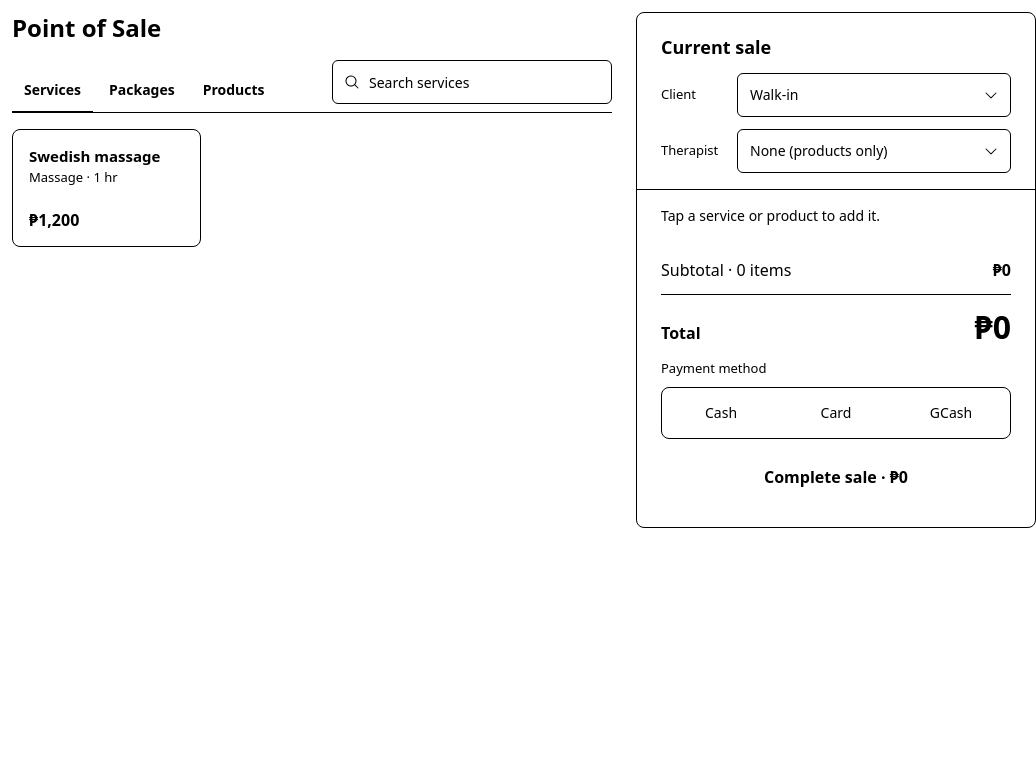
it: Point of Sale › needs a therapist when the cart has a service
Click the button "Swedish massage Massage · 1 hr ₱1,200": [107, 188] box x1=12 y1=129 x2=201 y2=247
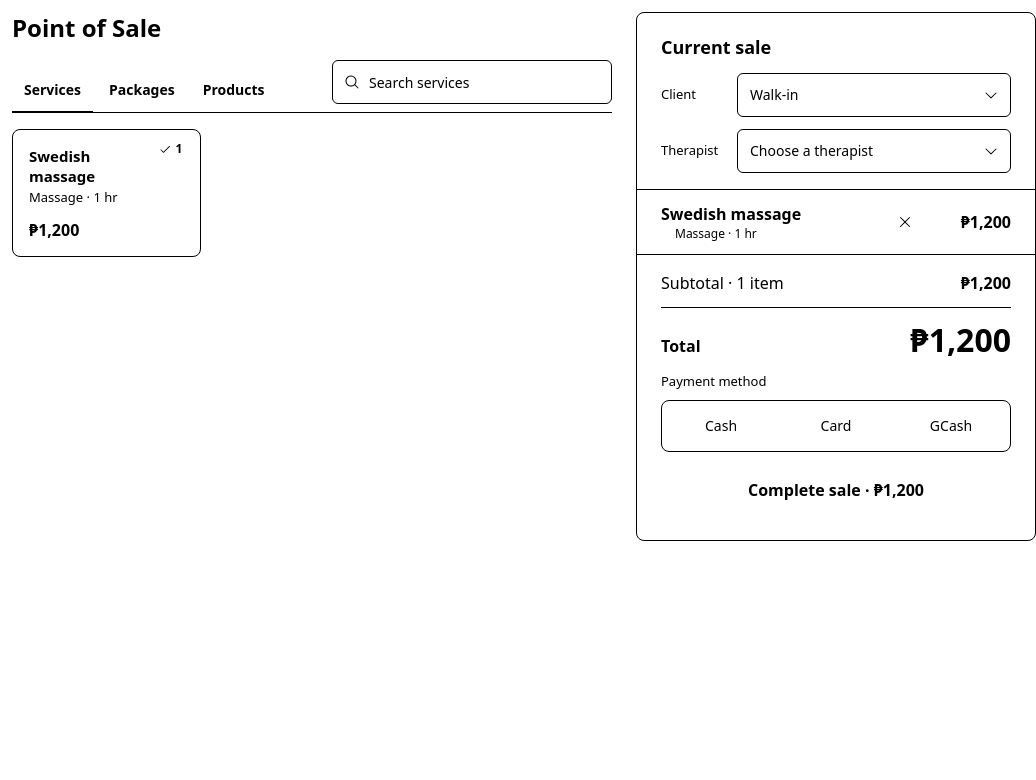
Click the button "Cash": [721, 426] box x1=665 y1=404 x2=777 y2=448
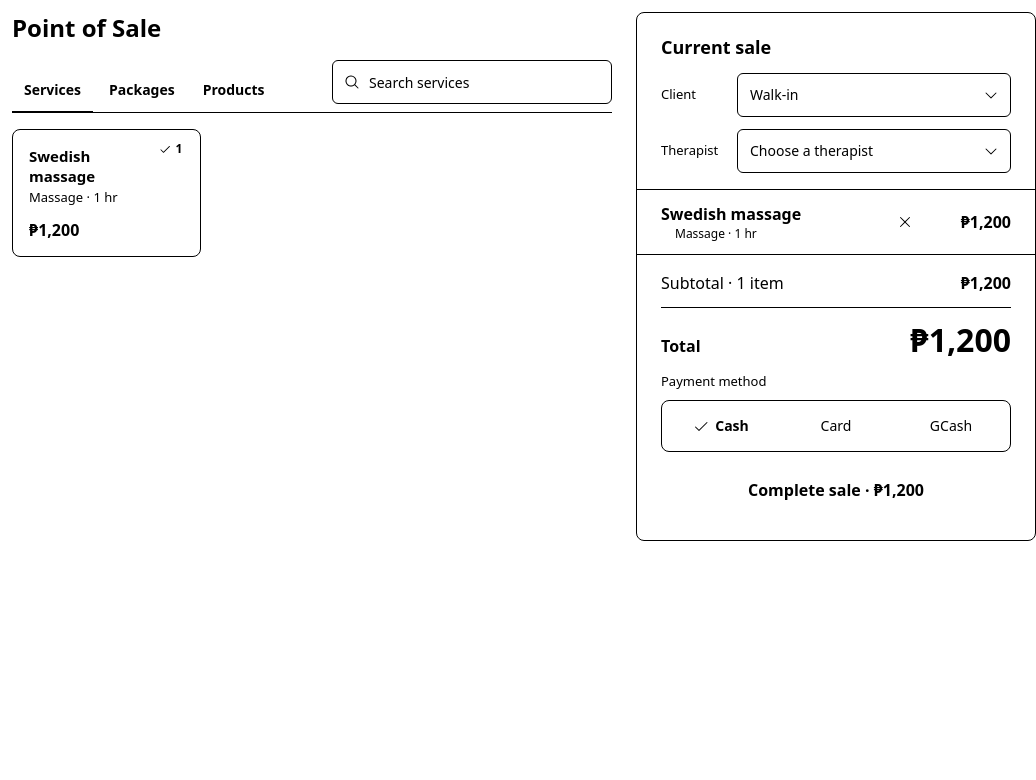
Click the button "Complete sale · ₱1,200": [836, 490] box x1=661 y1=464 x2=1011 y2=516
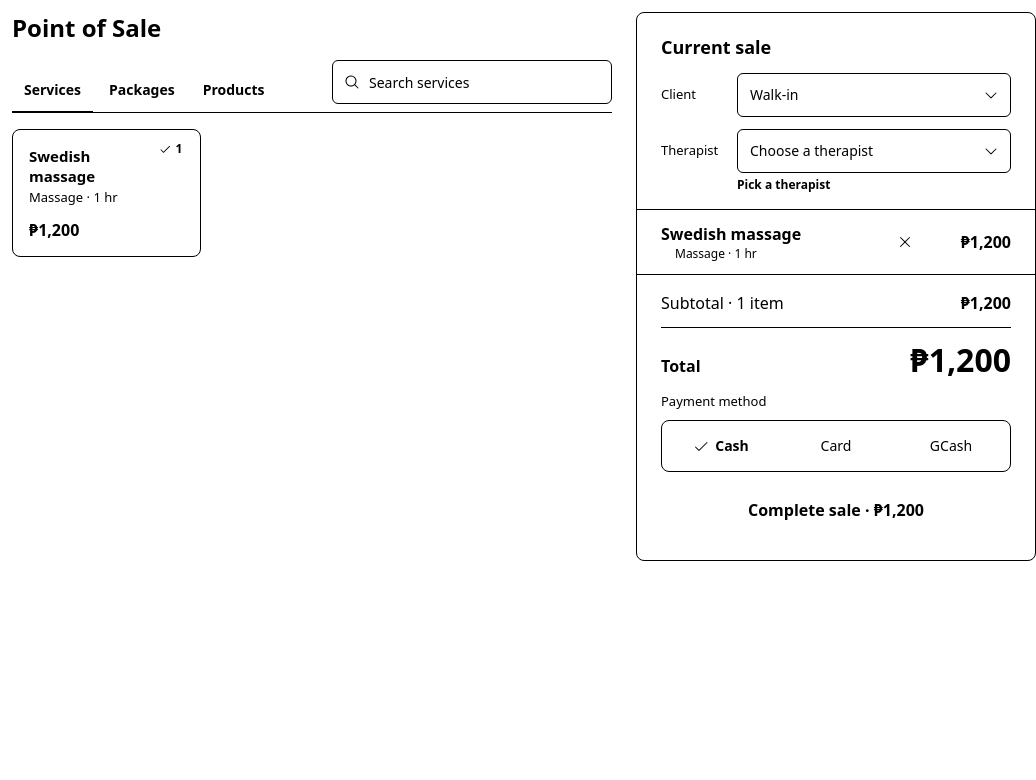
Check: the text "Pick a therapist" is shown, box x1=737 y1=176 x2=830 y2=193
